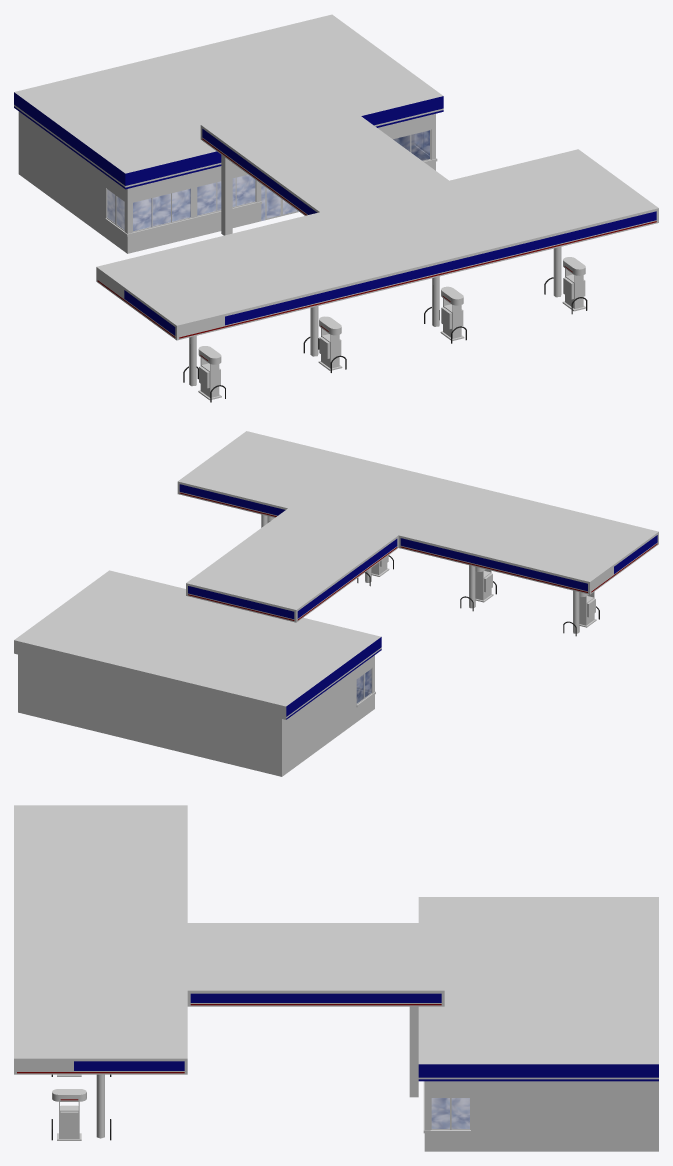
Rendered from GasStation.dae.
The picture shows the model from 3 angles, top to bottom: view 1: azimuth 30°, elevation 25°; view 2: azimuth 150°, elevation 25°; view 3: azimuth 270°, elevation 25°; orthographic projection. The views are drawn at different scales.
Visible parts, largest first — view 1: Roof (×4), Store (×3), Roof_Support, Three_Windows; view 2: Store (×2), Roof (×5); view 3: Roof (×3), Store (×3), Roof_Support (×2), Double_Window (×2).
Boxes of the visible parts, left/top/right/bottom form: Roof (×4): left=96, top=93, right=658, bottom=340; Store (×3): left=14, top=14, right=443, bottom=253; Roof_Support: left=221, top=155, right=232, bottom=235; Three_Windows: left=197, top=182, right=216, bottom=215; Store (×2): left=14, top=570, right=381, bottom=776; Roof (×5): left=177, top=431, right=658, bottom=622; Roof (×3): left=14, top=805, right=444, bottom=1074; Store (×3): left=418, top=897, right=658, bottom=1151; Roof_Support (×2): left=96, top=1006, right=418, bottom=1138; Double_Window (×2): left=431, top=1098, right=469, bottom=1128.
Bounding box in the file's own units: 1198 × 1288 × 242.
Materials: 5 (1 with a texture image).
